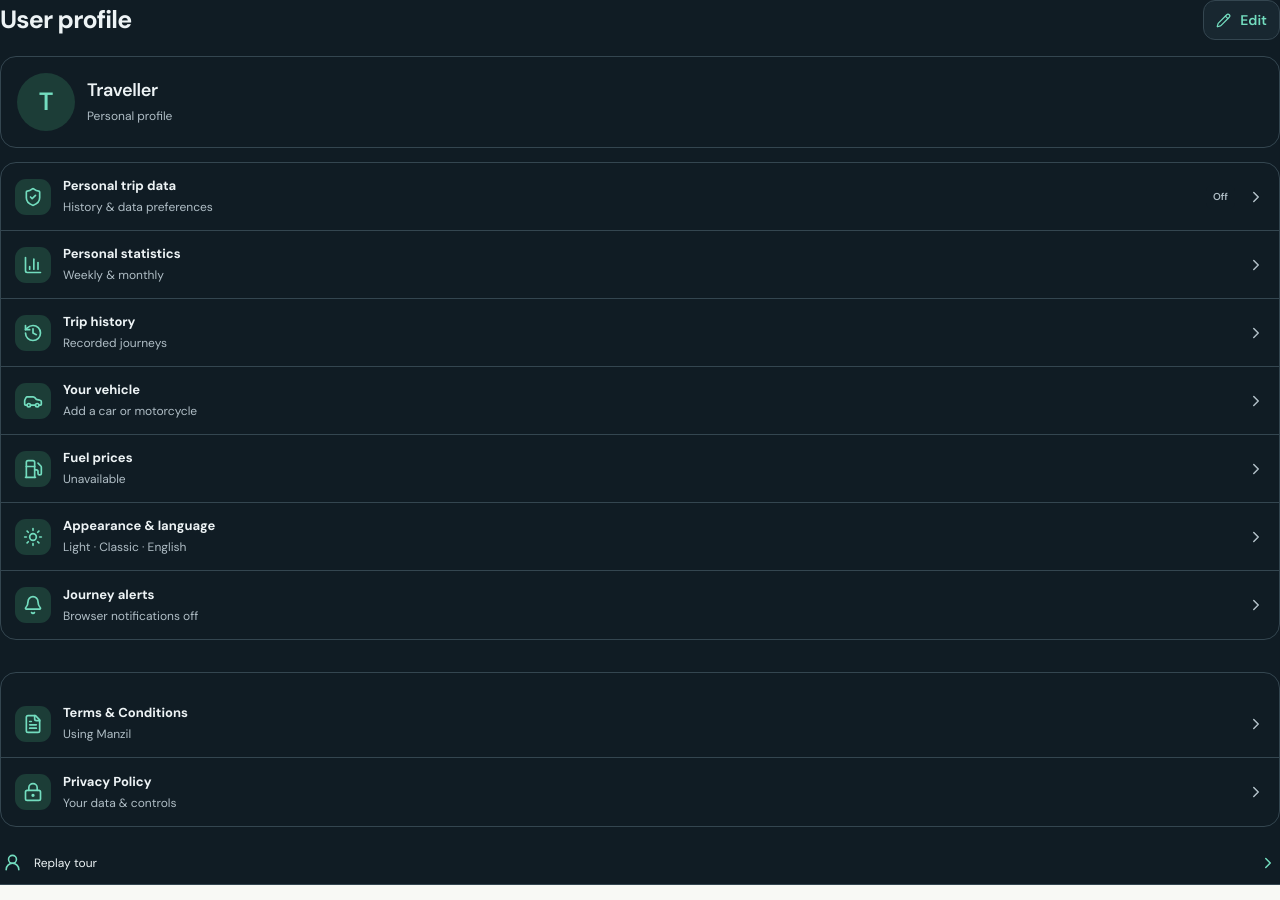
Test: personal permission and profile controls › keeps an unsaved edit and its error inside the panel after a failed write
This screenshot has width=1280, height=900.
Click the button "Edit". click: coordinates (1242, 20)
box: [1203,0,1279,40]
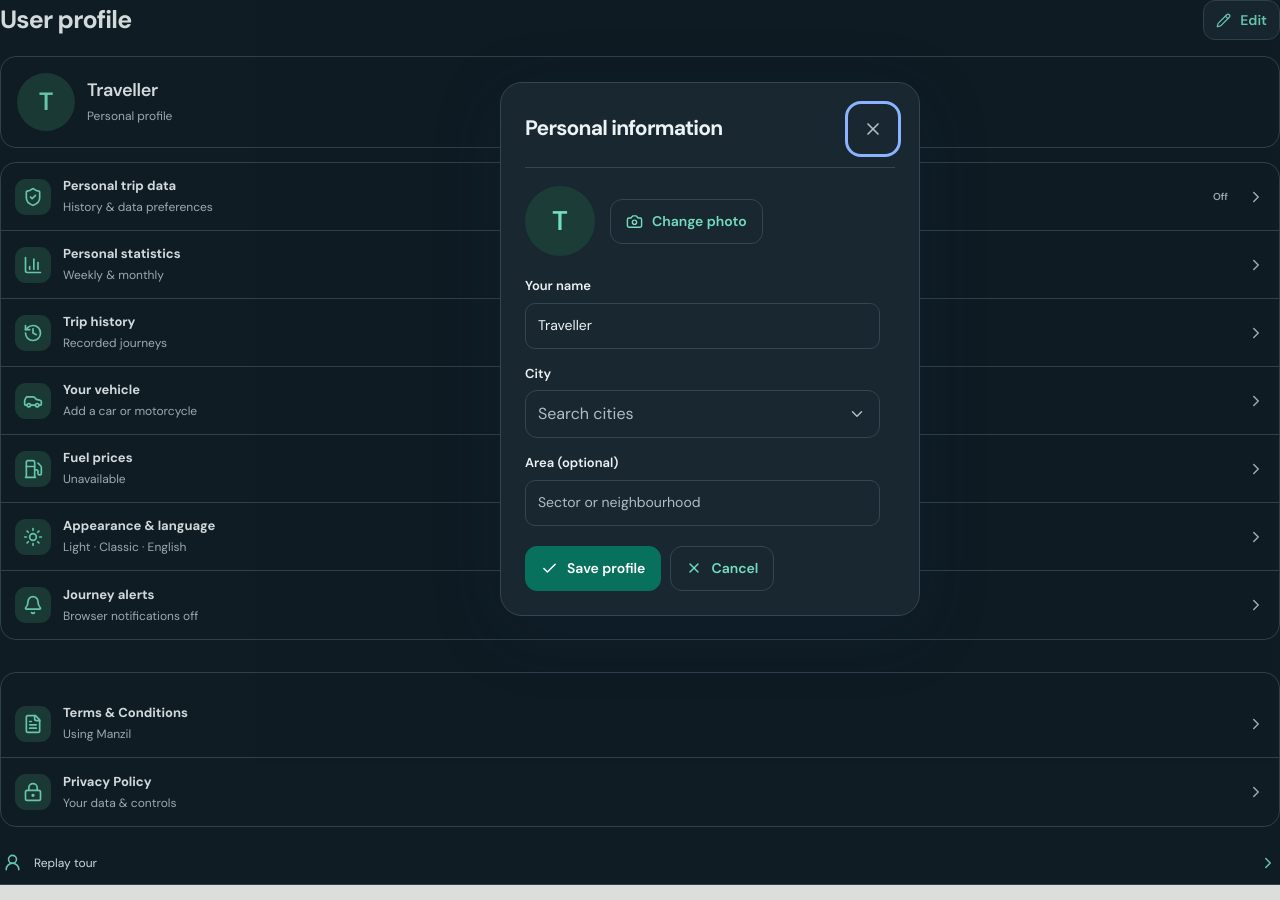
Replace the text in the field labelled "Your name" with "Unsaved traveller". click: coordinates (702, 326)
box: [525,302,880,348]
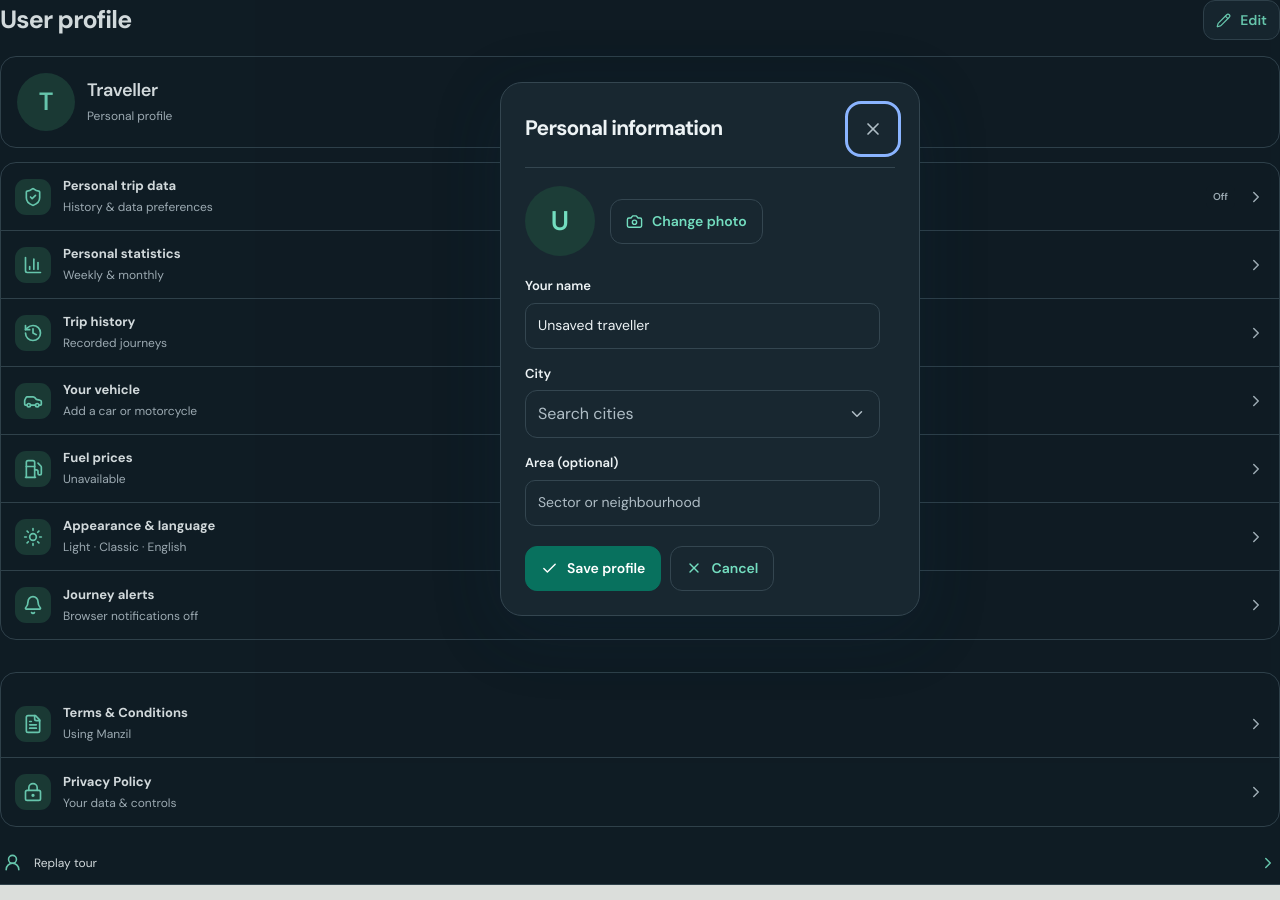
Click the button "Save profile". click: coordinates (593, 568)
box: [525,546,661,590]
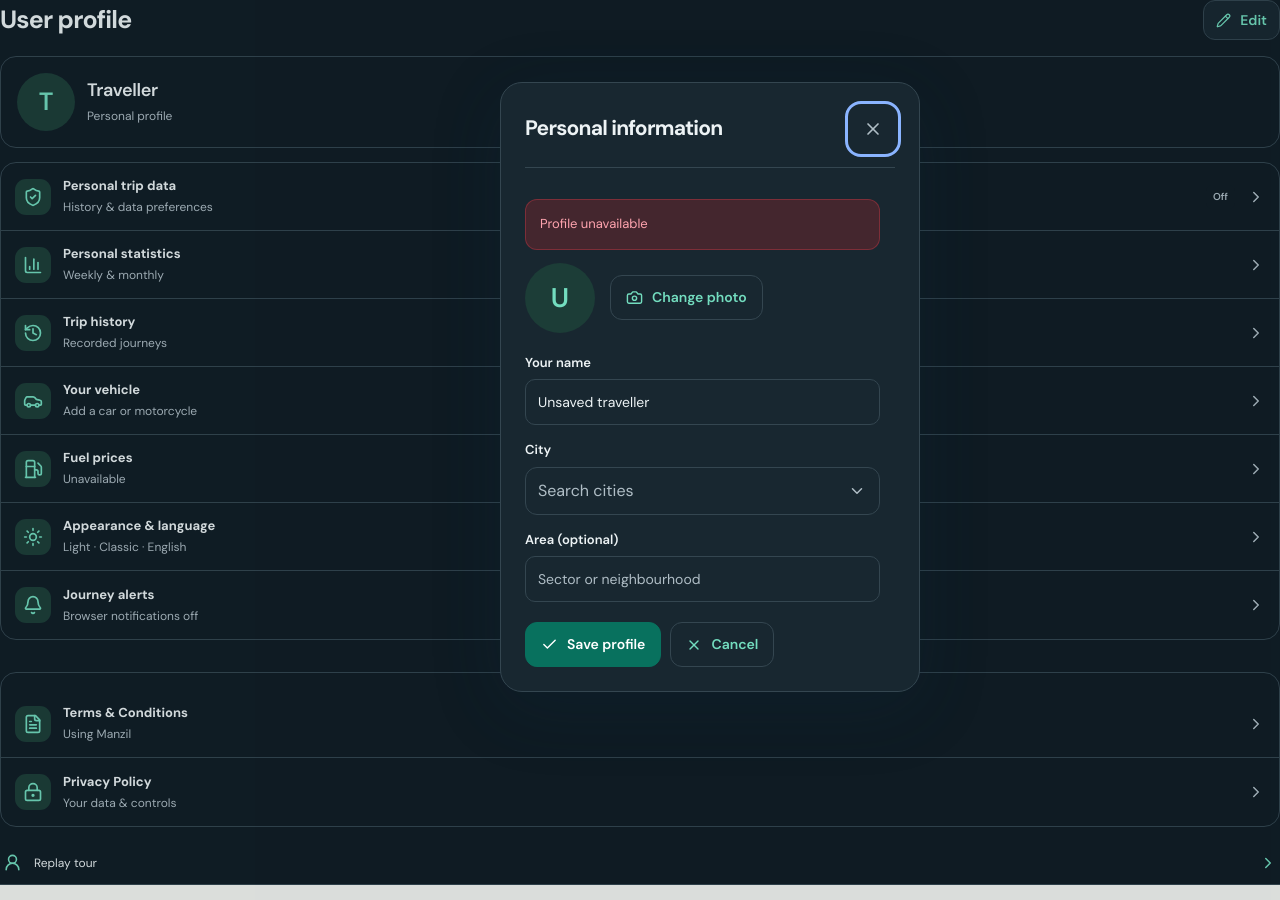
Result: the message reads "Profile unavailable" at [540,215,648,232]
Click the button "Cancel". click: coordinates (722, 645)
box: [670,622,774,667]
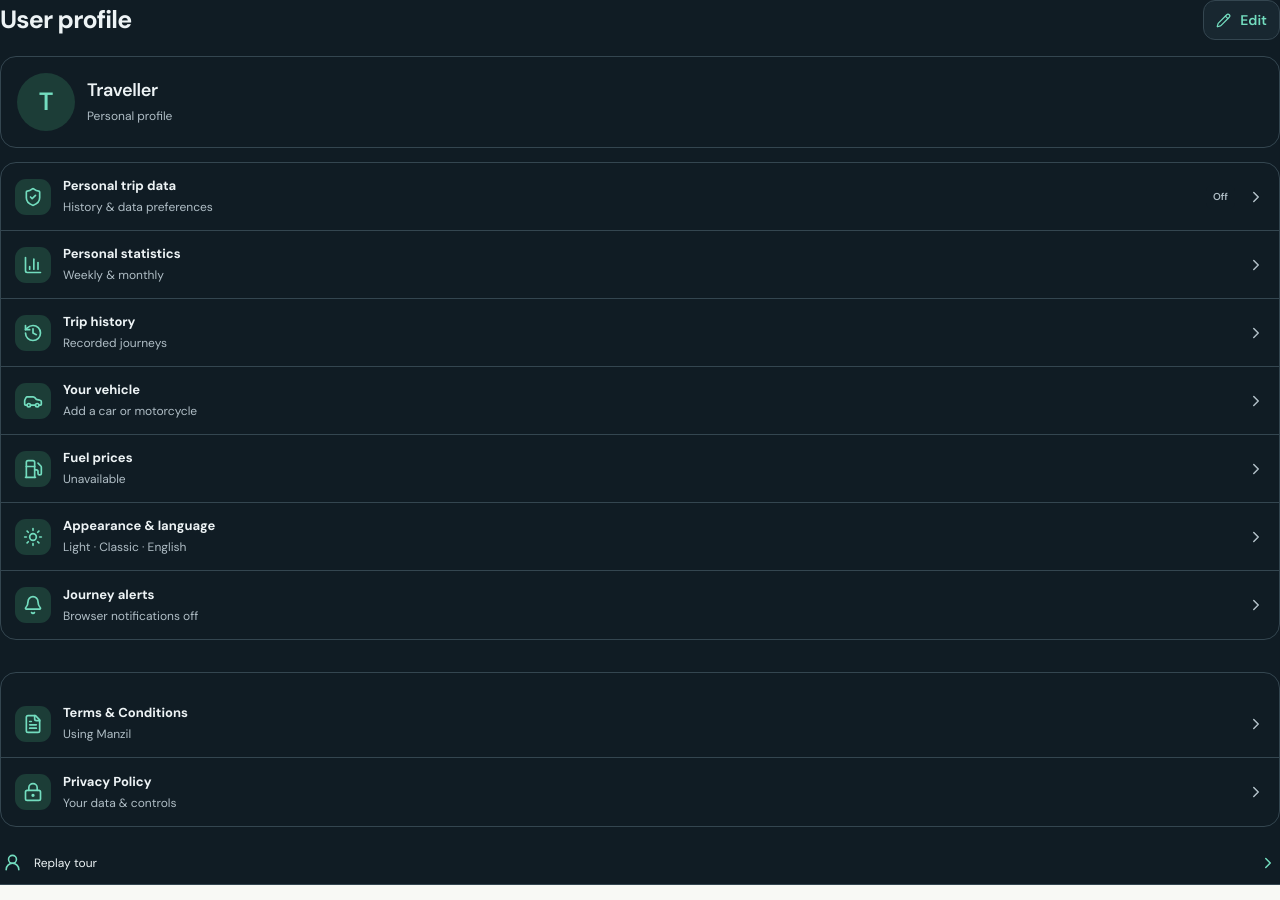
Click the button "Edit". click: coordinates (1242, 20)
box: [1203,0,1279,40]
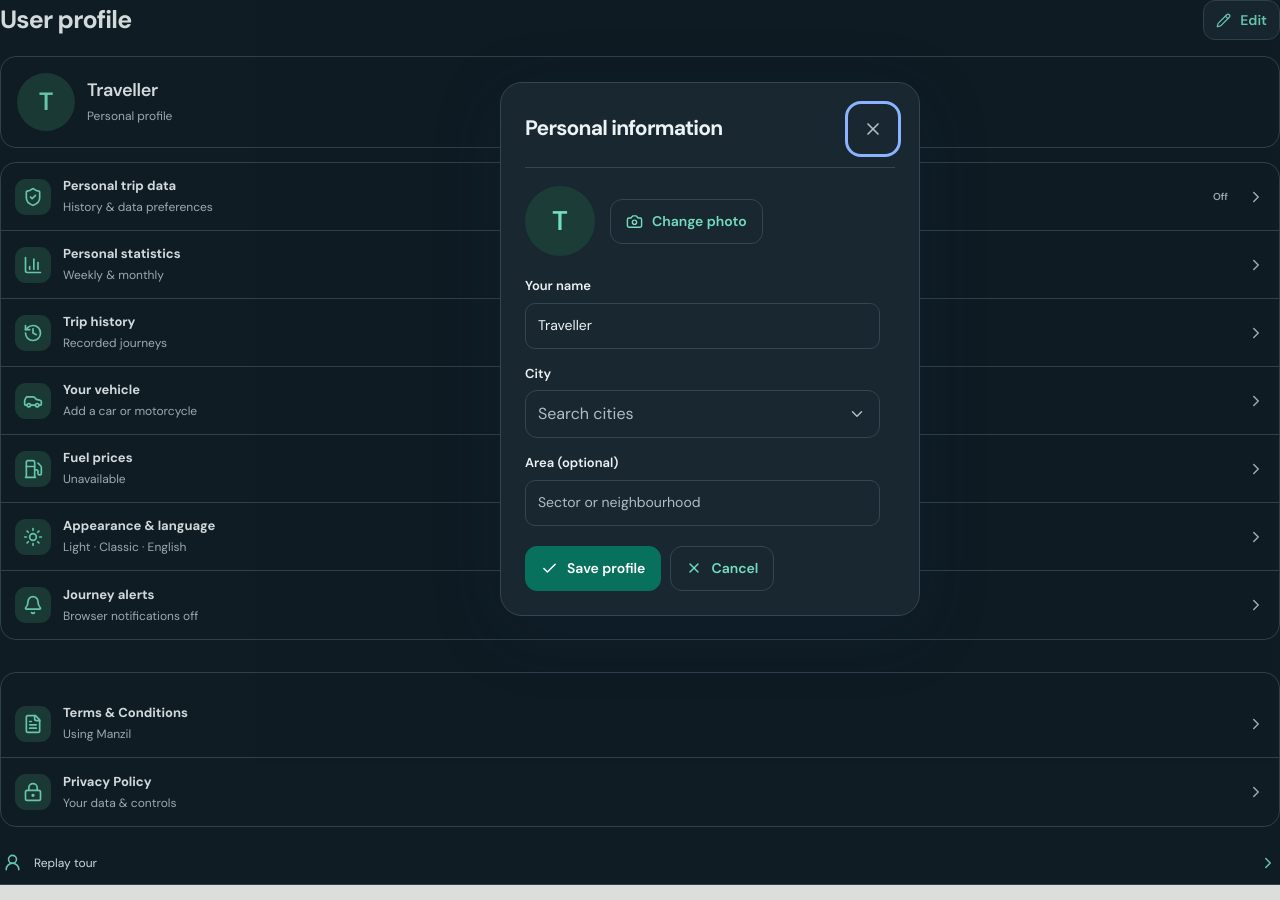
Expected: the message "Profile unavailable" is not shown
Result: the field labelled "Your name" holds "Traveller" at [525,302,880,348]
